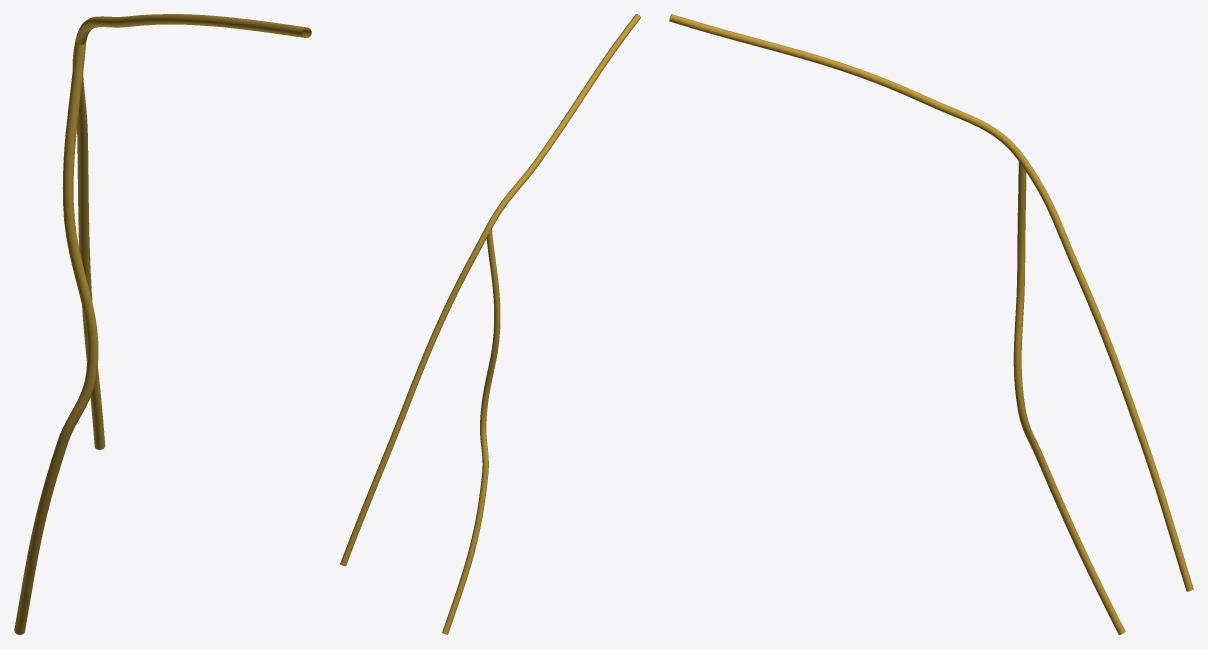
3 views of the same model, side by side, from view 1: azimuth 30°, elevation 25°; view 2: azimuth 150°, elevation 25°; view 3: azimuth 270°, elevation 25° (orthographic). The views are drawn at different scales.
Parts seen in each view (by area): view 1: 左侧足背中间皮神经; view 2: 左侧足背中间皮神经; view 3: 左侧足背中间皮神经.
Boxes of the visible parts, <box> form: 左侧足背中间皮神经: <box>14,14,311,634</box>; 左侧足背中间皮神经: <box>340,14,640,634</box>; 左侧足背中间皮神经: <box>669,14,1193,634</box>.
Size of the model in its own units: 0.0257 by 0.1254 by 0.0973.
